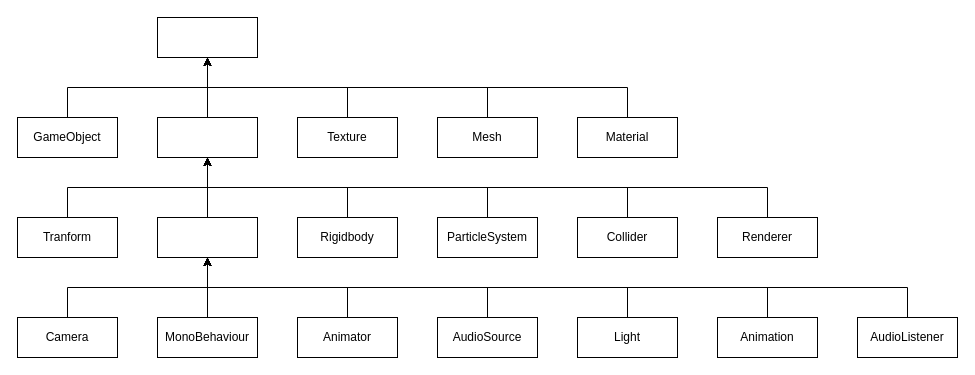
The diagram is 975 pixels wide and 375 high, and some of its shapes have lost their labels. Each missing label, with the centre of its shape:
"Behaviour" goes at [207,237].
"Component" goes at [207,137].
"Object" goes at [207,37].
